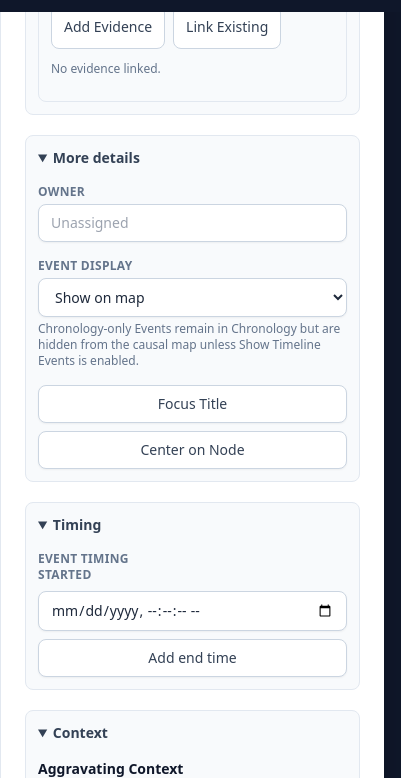
Test case: Inspector and keyboard workflows › orders effect-specific Context after timing and limits unsupported nodes
(page scrolled)
Click the heading "Timing" at (77, 524), box [53, 515, 101, 534]
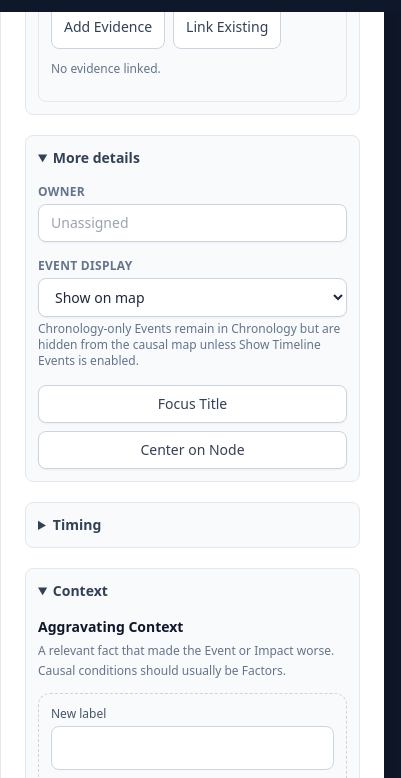
Click the heading "Context" at (80, 590), box [53, 581, 108, 600]
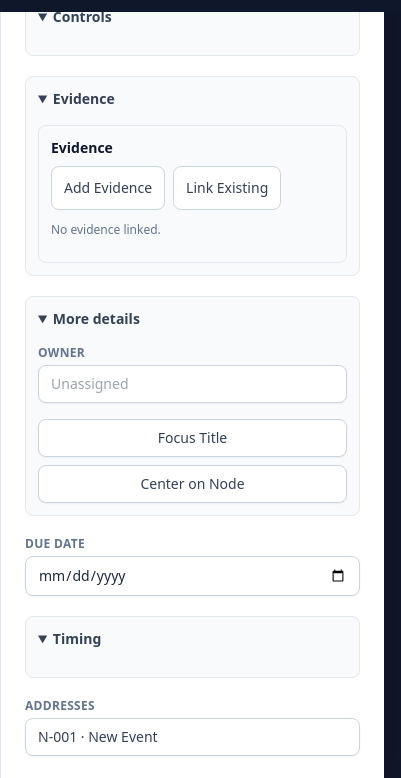
Now the heading "Context" is gone
Now the heading "Aggravating Context" is gone
